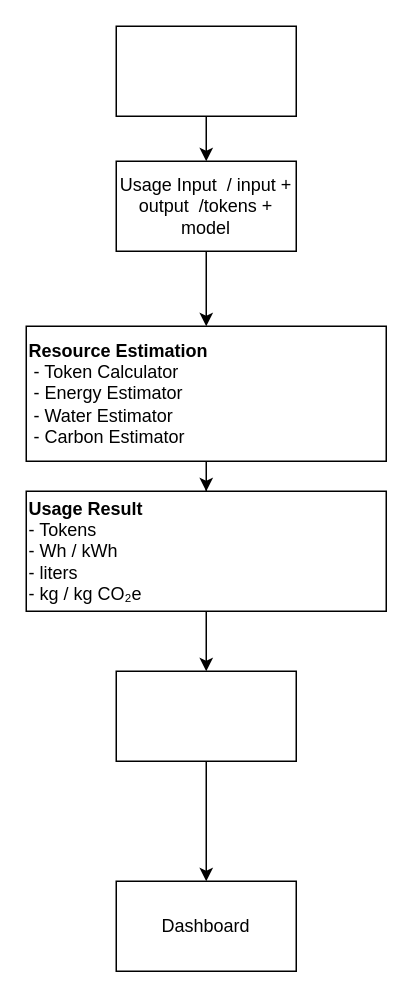
This 413x998 diagram has some shape labels left out. The box of each missing label's shape, as (x1, y1, x2, y2) in pixels:
API / CLI: (115, 670, 296, 761)
User prompts / tokens: (115, 25, 296, 116)
